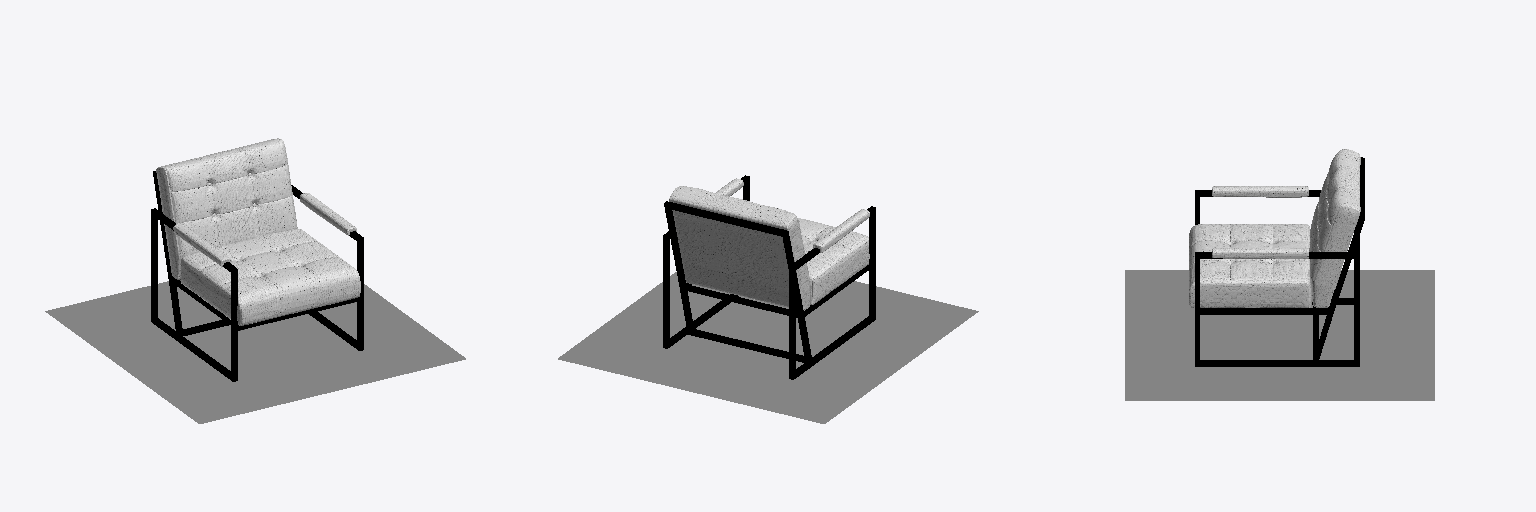
3 renders of one model, left to right at view 1: azimuth 30°, elevation 25°; view 2: azimuth 150°, elevation 25°; view 3: azimuth 270°, elevation 25°, orthographic.
Visible parts, largest first — view 1: shadow_plane_v6, not_clear_obj_2_v6, not_clear_obj_1_v6; view 2: shadow_plane_v6, not_clear_obj_2_v6, not_clear_obj_1_v6; view 3: shadow_plane_v6, not_clear_obj_2_v6, not_clear_obj_1_v6.
Part boxes in pixels (bbox=[...]): shadow_plane_v6: bbox=[45, 281, 465, 423]; not_clear_obj_2_v6: bbox=[156, 138, 360, 325]; not_clear_obj_1_v6: bbox=[151, 171, 363, 381]; shadow_plane_v6: bbox=[558, 272, 978, 423]; not_clear_obj_2_v6: bbox=[669, 178, 869, 310]; not_clear_obj_1_v6: bbox=[663, 175, 875, 379]; shadow_plane_v6: bbox=[1125, 270, 1434, 400]; not_clear_obj_2_v6: bbox=[1189, 149, 1360, 307]; not_clear_obj_1_v6: bbox=[1195, 157, 1364, 366].
Bounding box in the file's own units: 149 × 84.03 × 149.
Materials: 5 (1 with a texture image).